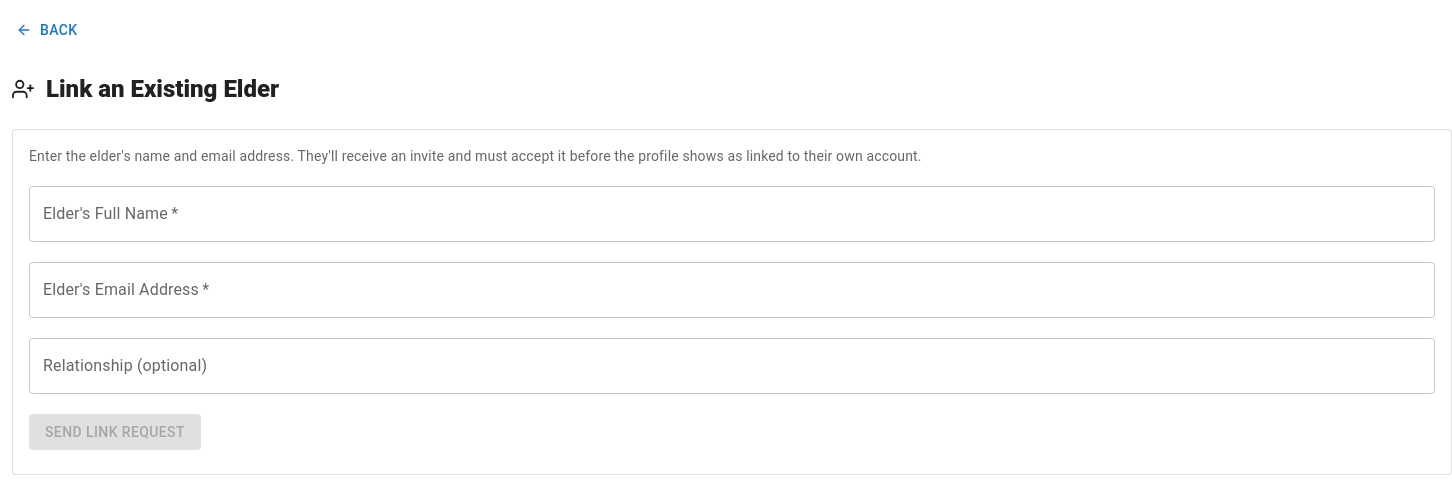
LinkElderProfile.page › submitting creates a placeholder profile then sends an ELDER-role invite to that email
This screenshot has width=1452, height=492.
Step 1. Type "Grandma Rose" into the field labelled "Elder's Full Name *" → (732, 214), box [29,186,1435,242]
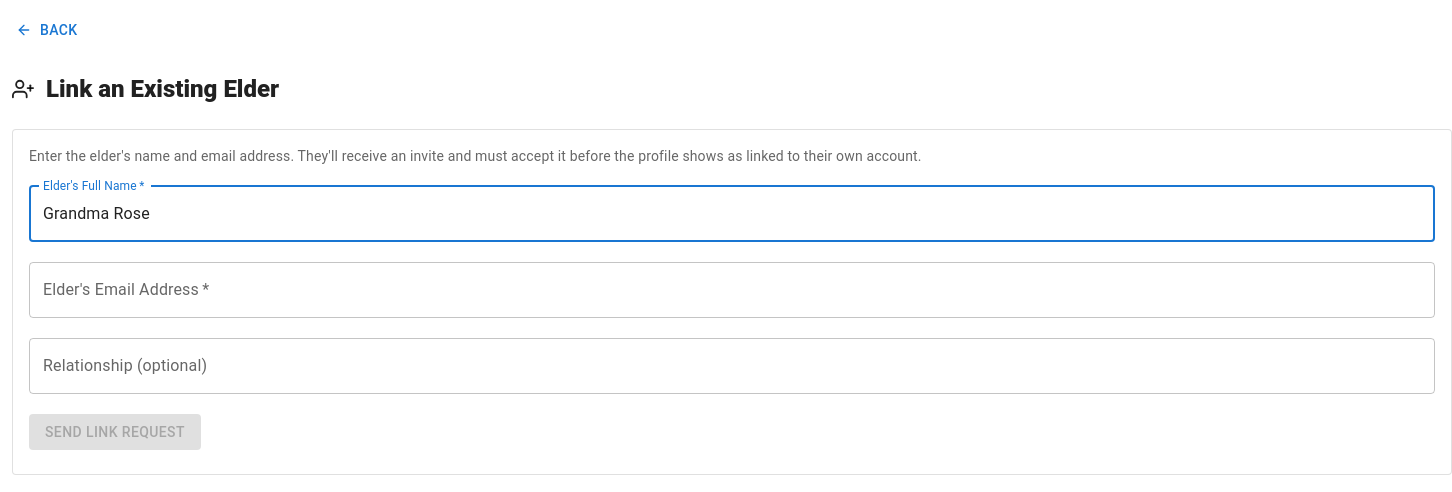
Step 2. Type "rose@example.com" into the field labelled "Elder's Email Address *" → (732, 290), box [29,262,1435,318]
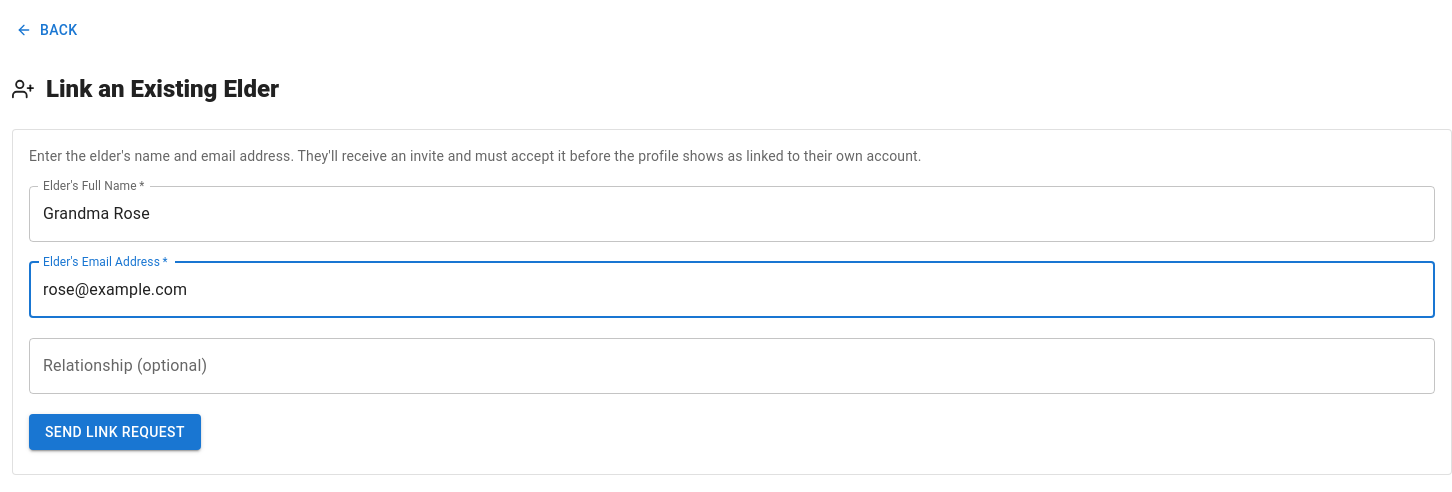
Step 3. Type "Mother" into the field labelled "Relationship (optional)" → (732, 366), box [29,338,1435,394]
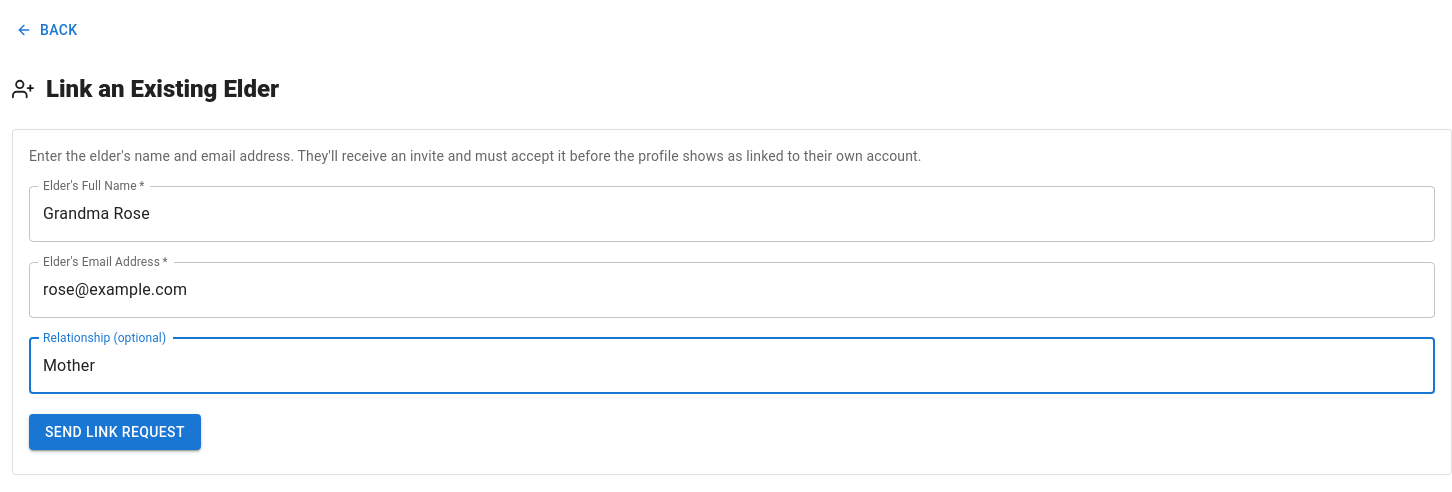
Step 4. Click the button "Send Link Request" → click(115, 432), box [29,414,201,450]
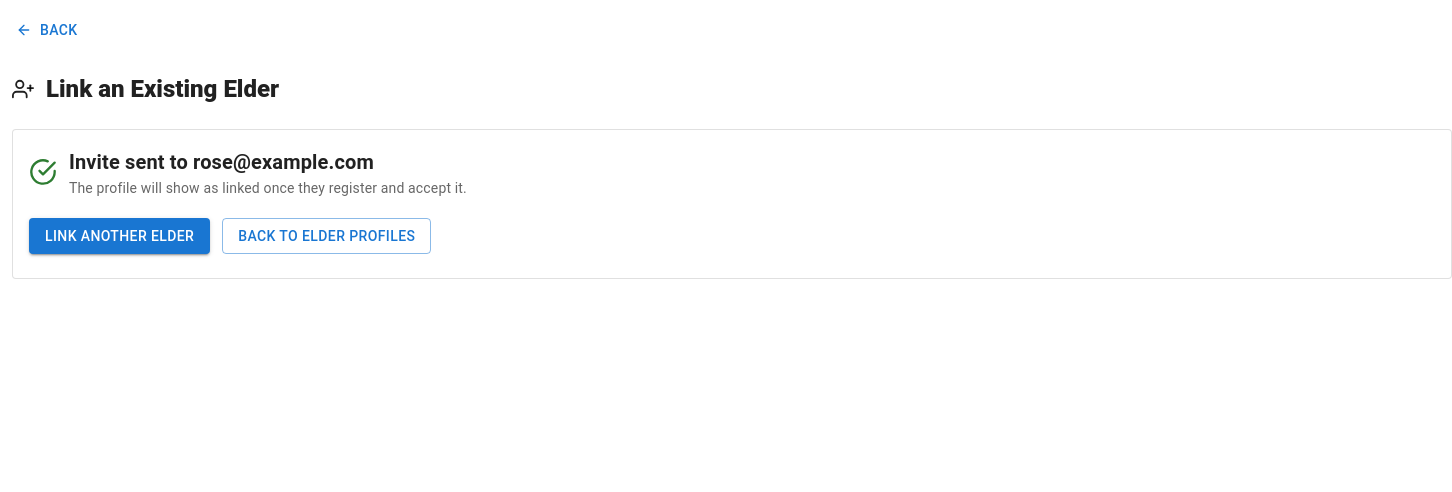
Expected: the heading "Invite sent to rose@example.com" is shown, [69,150,374,174]
